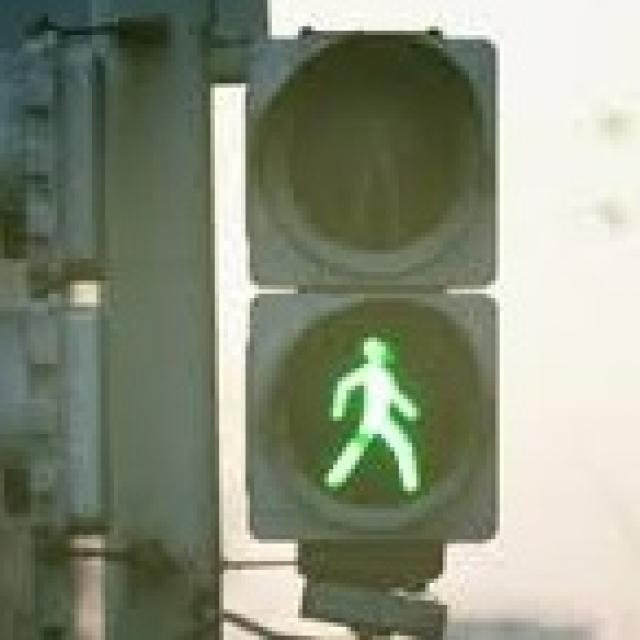geen-crossing: (311, 320, 425, 508)
